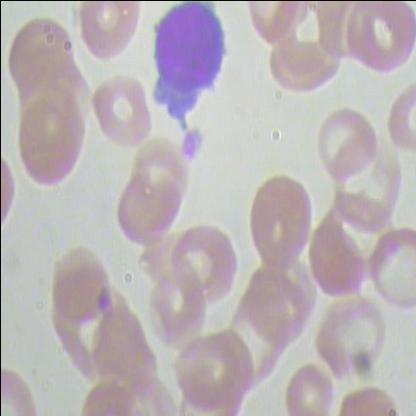Platelets: (178, 124, 206, 163)
RBC: (170, 328, 256, 414), (242, 173, 314, 271), (312, 291, 388, 381), (172, 223, 240, 306), (344, 1, 416, 76), (47, 244, 111, 324), (316, 103, 376, 183), (90, 74, 151, 151), (367, 220, 415, 312), (74, 1, 138, 68), (280, 362, 339, 415), (386, 78, 415, 156), (336, 384, 405, 415)
WBC: (144, 0, 238, 130)
